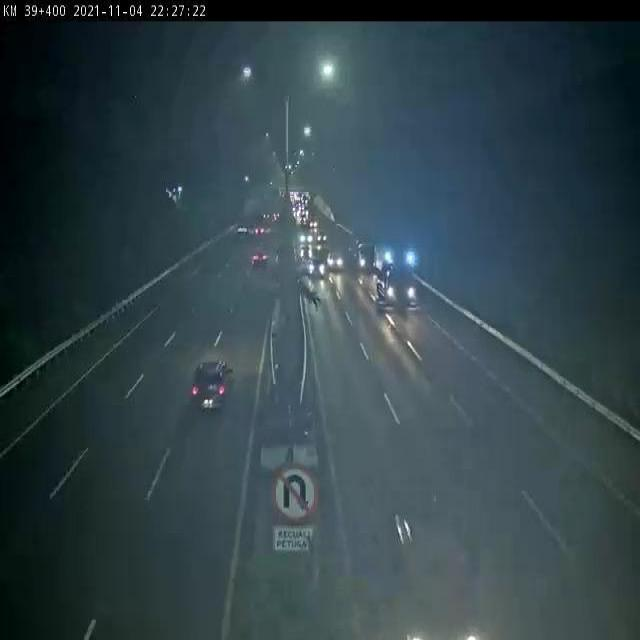car: (190, 360, 234, 413), (250, 250, 270, 270)
truck-l-: (376, 242, 417, 310)
